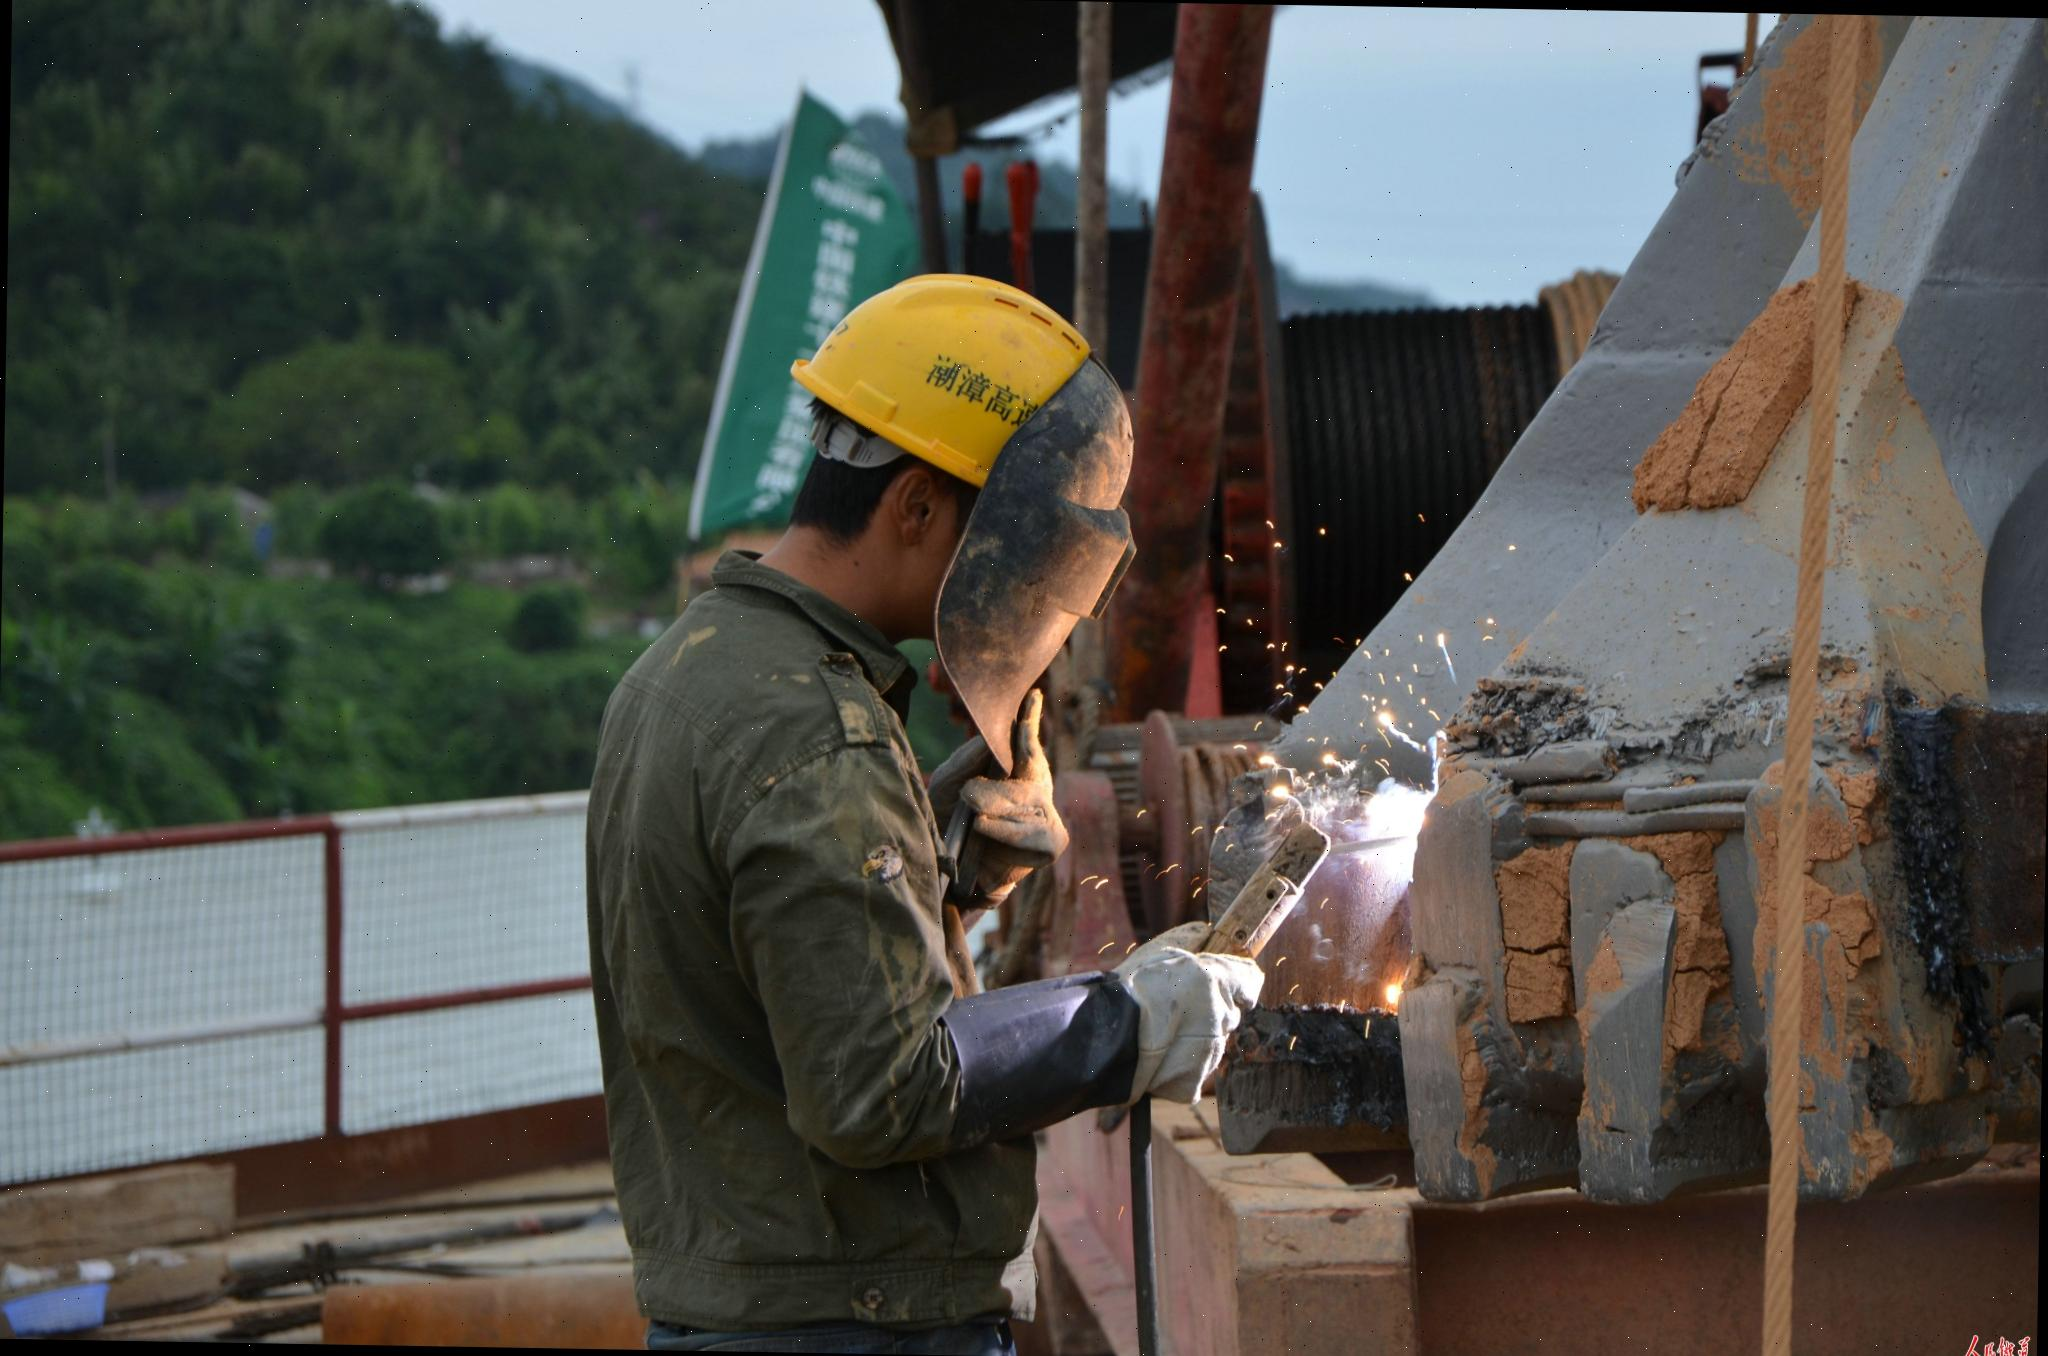helmet: (771, 260, 1116, 499)
no_wear: (582, 599, 1012, 1300)
